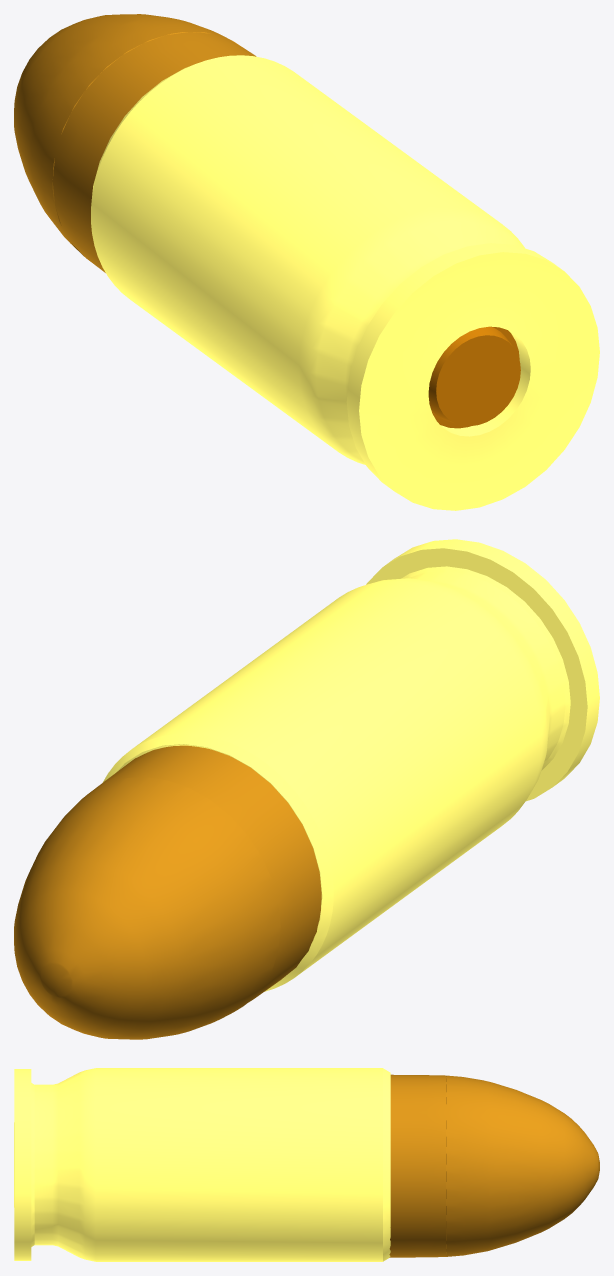
The model's file is bullet_9mm.glb.
3 renders of one model, top to bottom at view 1: azimuth 30°, elevation 25°; view 2: azimuth 150°, elevation 25°; view 3: azimuth 270°, elevation 25°, orthographic. The views are drawn at different scales.
Visible parts, largest first — view 1: Material-material, Material_002-material, Material_001-material; view 2: Material-material, Material_002-material; view 3: Material-material, Material_002-material.
Part boxes in pixels (bbox=[...]): Material-material: bbox=[91, 55, 599, 510]; Material_002-material: bbox=[14, 14, 256, 272]; Material_001-material: bbox=[428, 326, 520, 428]; Material-material: bbox=[103, 539, 599, 991]; Material_002-material: bbox=[14, 745, 321, 1039]; Material-material: bbox=[14, 1068, 390, 1261]; Material_002-material: bbox=[389, 1074, 599, 1257].
Size of the model in its own units: 0.01 by 0.01 by 0.0304.
